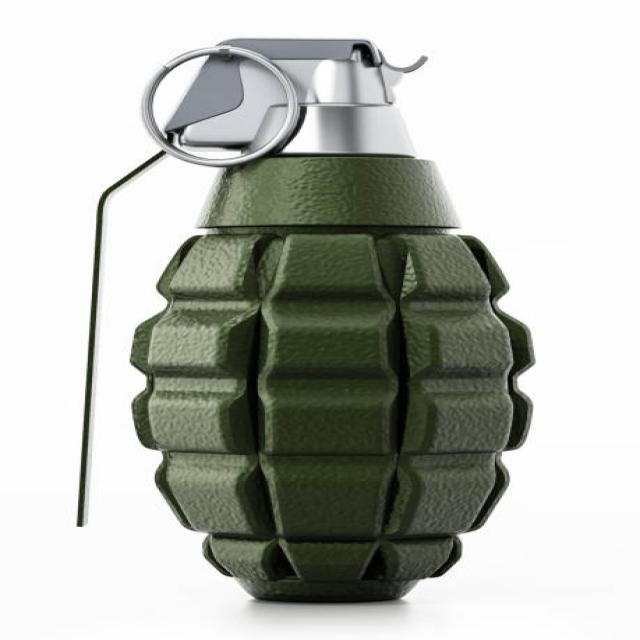grenade: (37, 28, 554, 613)
